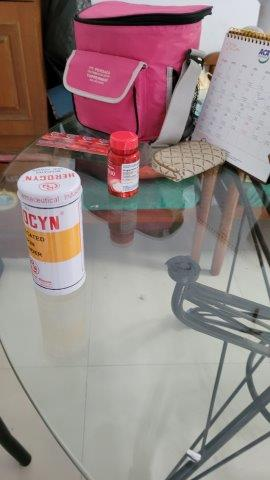kaleng: (15, 167, 88, 295)
